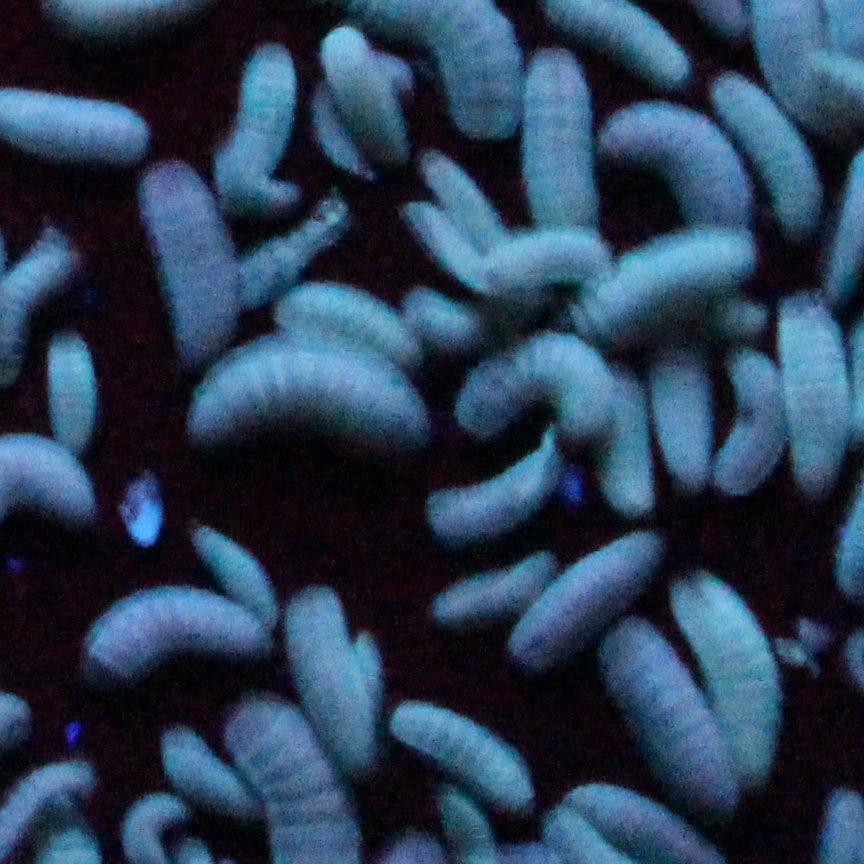larve: (179, 327, 441, 443), (664, 558, 783, 784), (699, 57, 838, 245), (504, 526, 672, 673), (138, 152, 242, 362), (438, 326, 624, 443), (577, 227, 770, 339), (596, 87, 748, 224), (283, 586, 382, 775), (768, 286, 855, 501), (385, 698, 546, 812), (512, 31, 602, 230), (277, 260, 427, 379), (63, 590, 283, 665), (426, 436, 572, 547), (220, 37, 304, 217), (636, 333, 727, 499), (321, 21, 423, 158), (184, 512, 286, 640), (709, 342, 791, 501), (405, 147, 521, 254), (37, 330, 135, 454), (135, 726, 254, 817), (432, 553, 561, 624), (397, 196, 488, 291), (303, 72, 371, 192)
